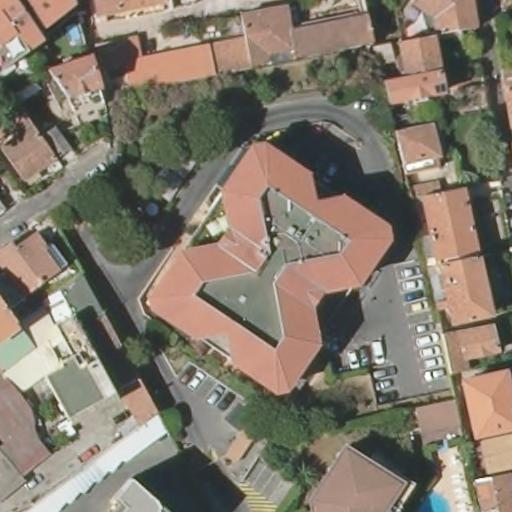pool: (401, 482, 455, 511), (64, 22, 84, 44)
